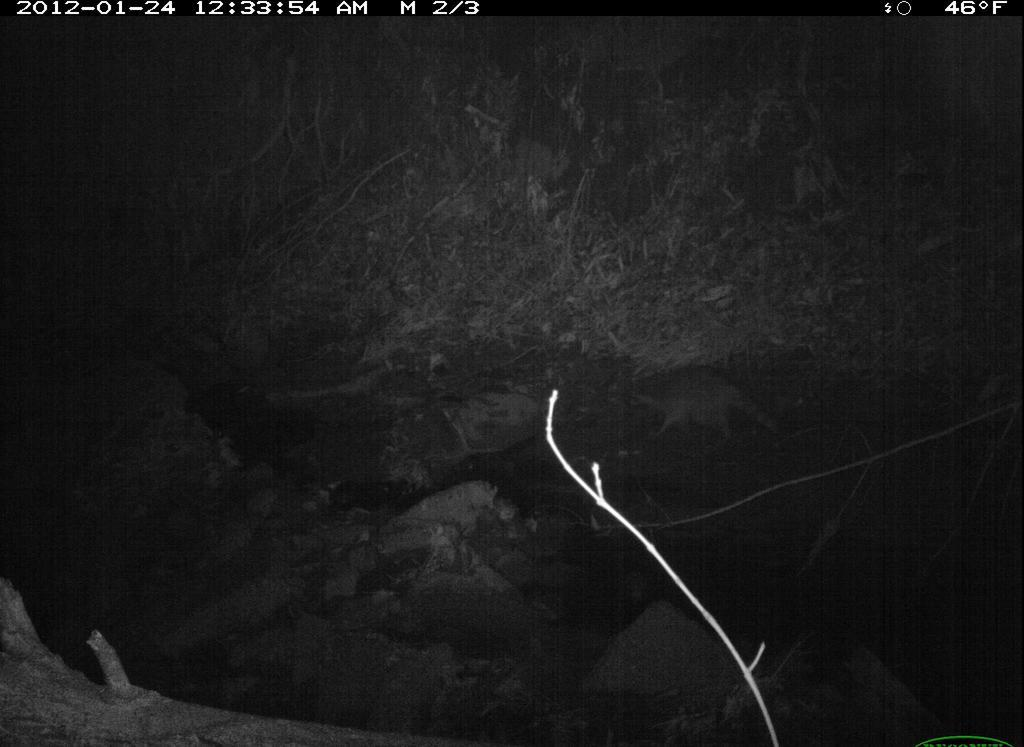raccoon: (601, 345, 793, 454)
